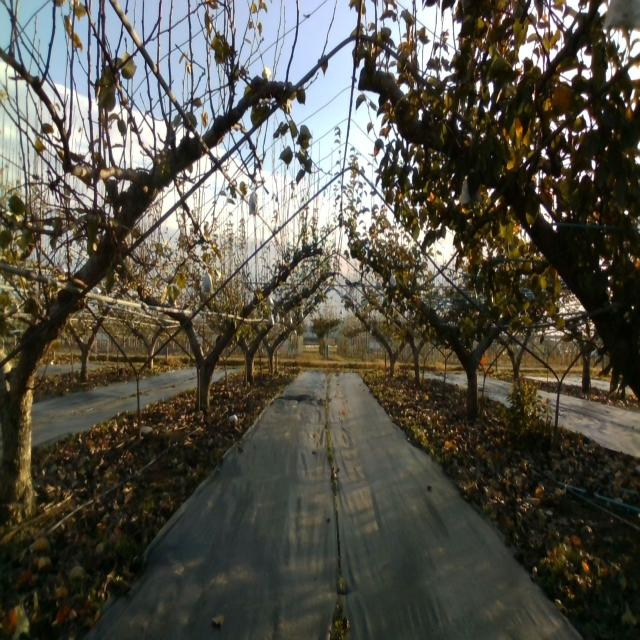pearbags: (201, 266, 214, 296), (248, 190, 258, 215)
